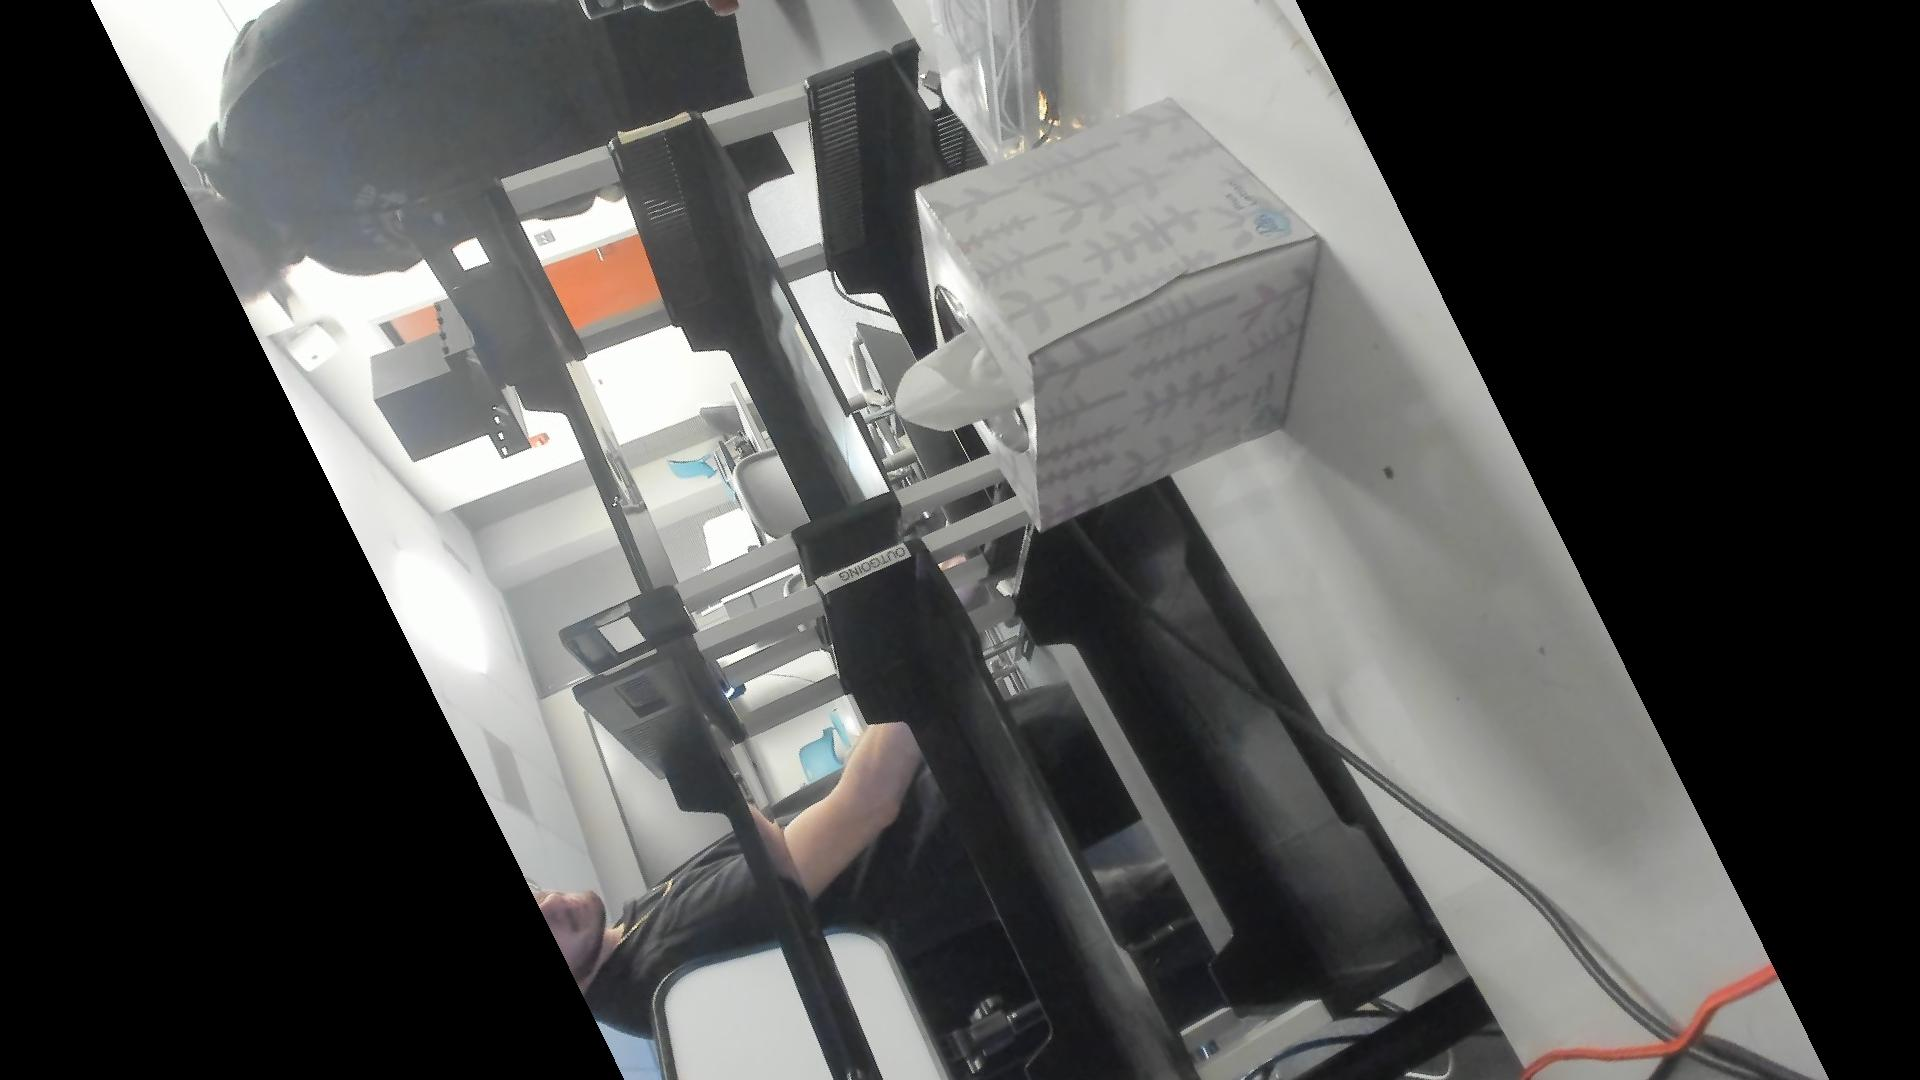black pallet: (367, 285, 539, 472)
